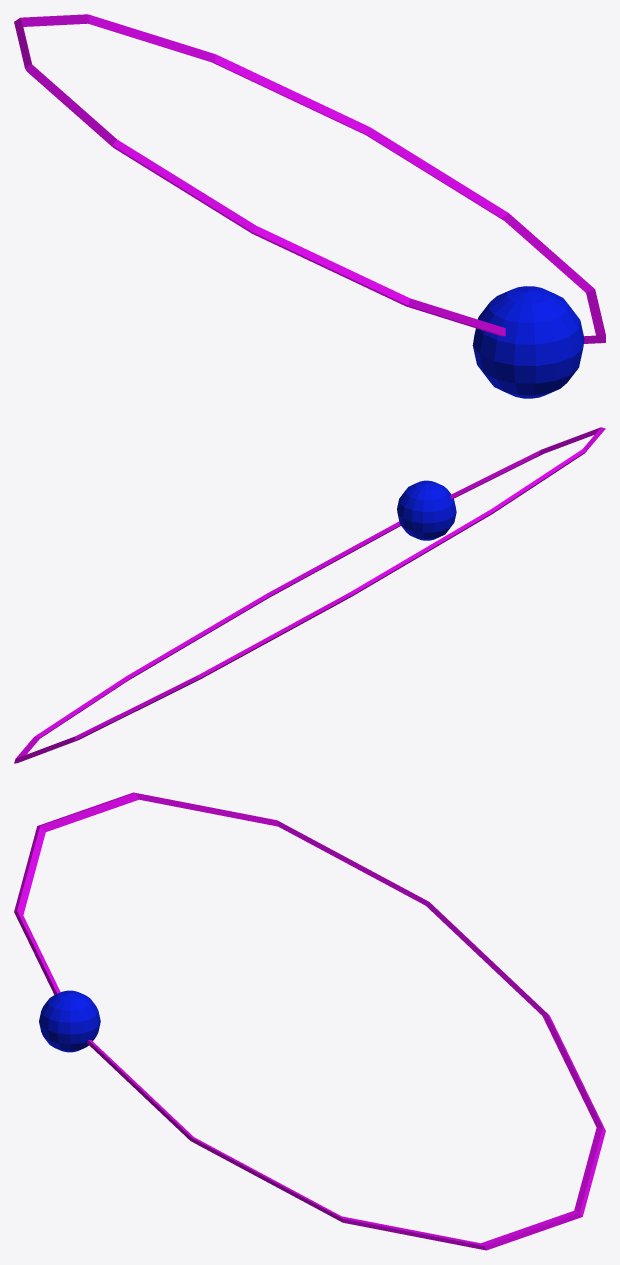
The model's file is 1.MercuryFullAnimation.fbx.
3 views of the same model, one above another, from view 1: azimuth 30°, elevation 25°; view 2: azimuth 150°, elevation 25°; view 3: azimuth 270°, elevation 25° (orthographic). The views are drawn at different scales.
Parts seen in each view (by area): view 1: 1.-MercuryOrbit, 1.-Mercury; view 2: 1.-MercuryOrbit, 1.-Mercury; view 3: 1.-MercuryOrbit, 1.-Mercury.
Boxes of the visible parts, x1,y1,x2,y2 form: 1.-MercuryOrbit: (14, 14, 605, 343); 1.-Mercury: (472, 286, 584, 398); 1.-MercuryOrbit: (14, 427, 605, 763); 1.-Mercury: (397, 480, 456, 540); 1.-MercuryOrbit: (14, 792, 605, 1250); 1.-Mercury: (39, 990, 100, 1052).
Bounding box in the file's own units: 65.29 × 42.38 × 85.03.
